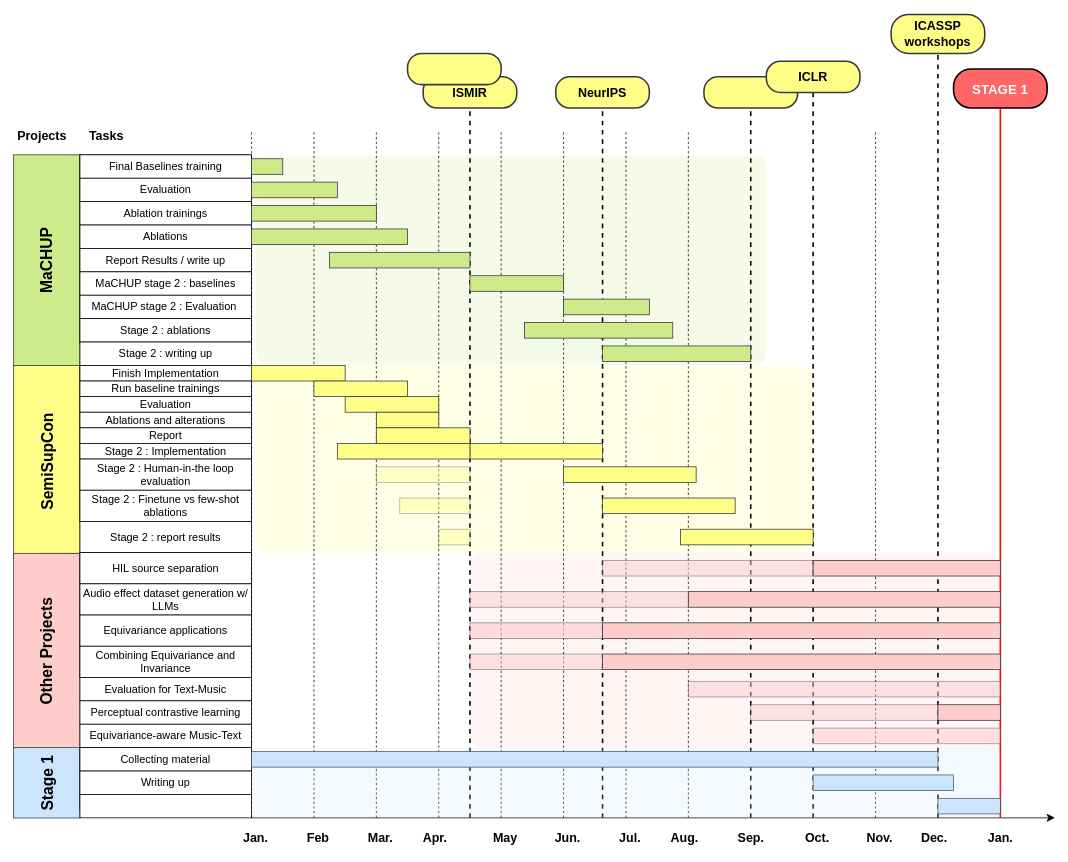
The diagram is 1068 pixels wide and 862 high, and some of its shapes have lost their labels. Each missing label, with the centre of its shape:
"ICASSP" belongs at [750,92].
"ISMIR tutorial" belongs at [454,68].
"Prepare for Viva" belongs at [165,806].
